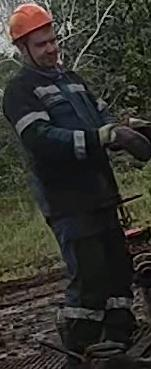gloves: (88, 120, 119, 148), (113, 117, 147, 126)
helmet: (7, 2, 54, 43)
vest: (0, 70, 120, 207)
